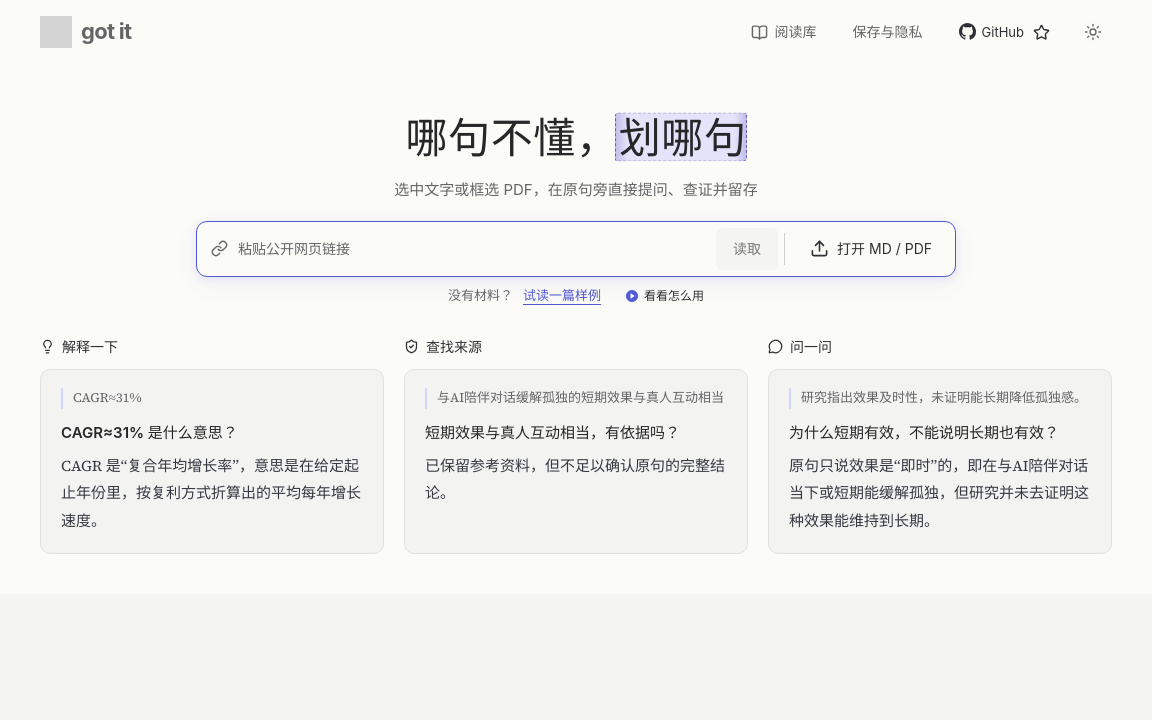
it: uses real browser storage content inside the home modal and refuses backup when saving fails
Click the button with class "start-nav-button" showing "保存与隐私": (888, 32) [841,11,935,53]
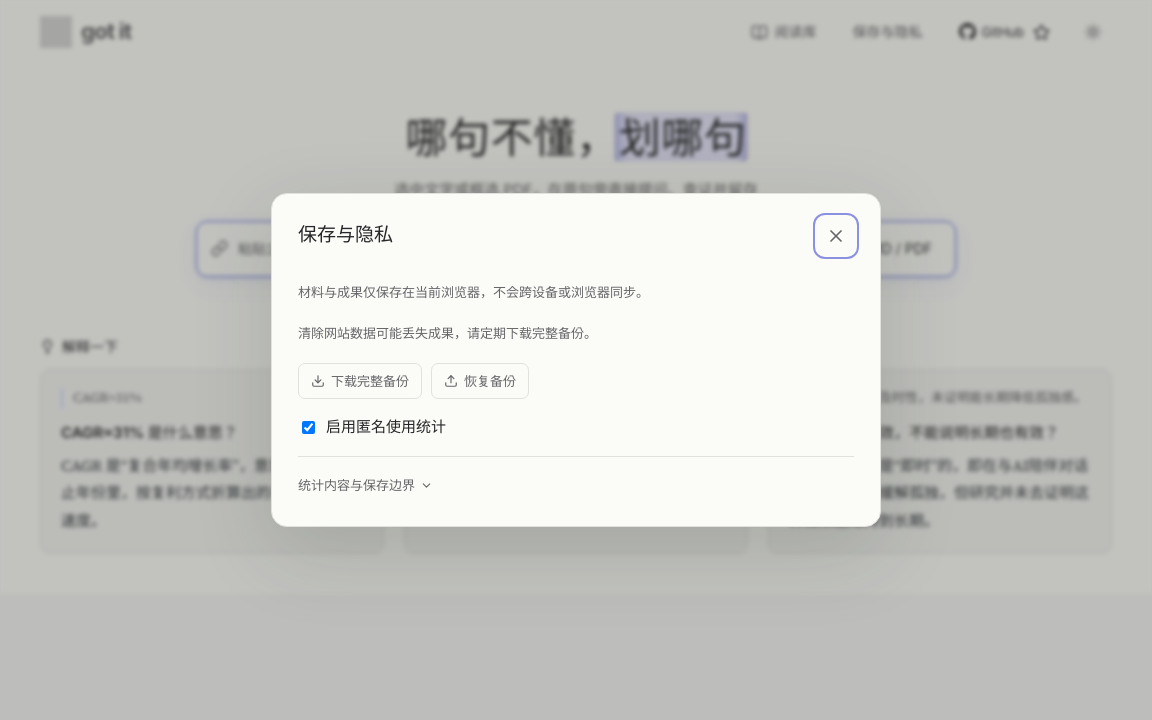
Expected: the dialog with class "start-privacy-dialog" is shown, [271,192,881,528]
Expected: the text "材料与成果仅保存在当前浏览器" is shown, [298,284,649,300]
Click the button "下载完整备份": (360, 381) [298,363,422,400]
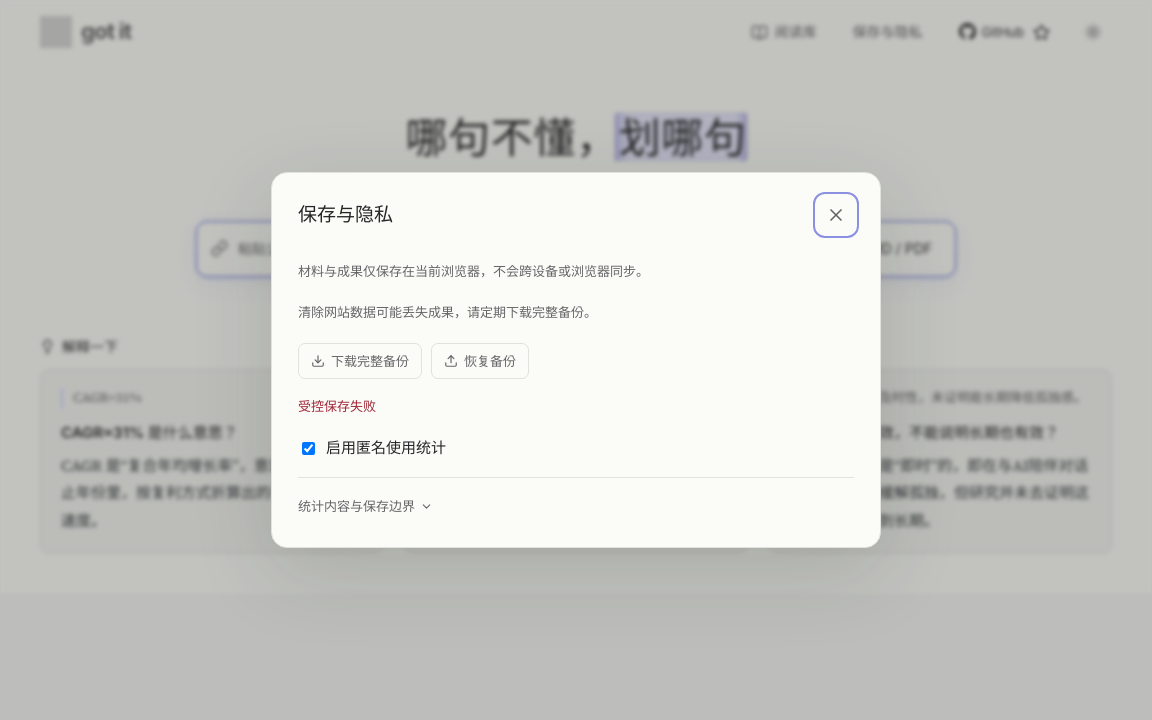
Expected: the message "受控保存失败" is shown, [298,398,376,414]
